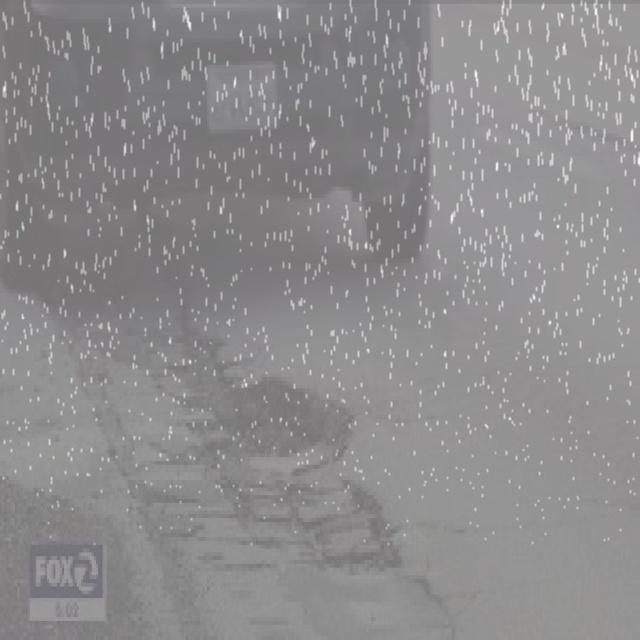Pothole: (42, 328, 371, 490), (140, 489, 464, 640)
